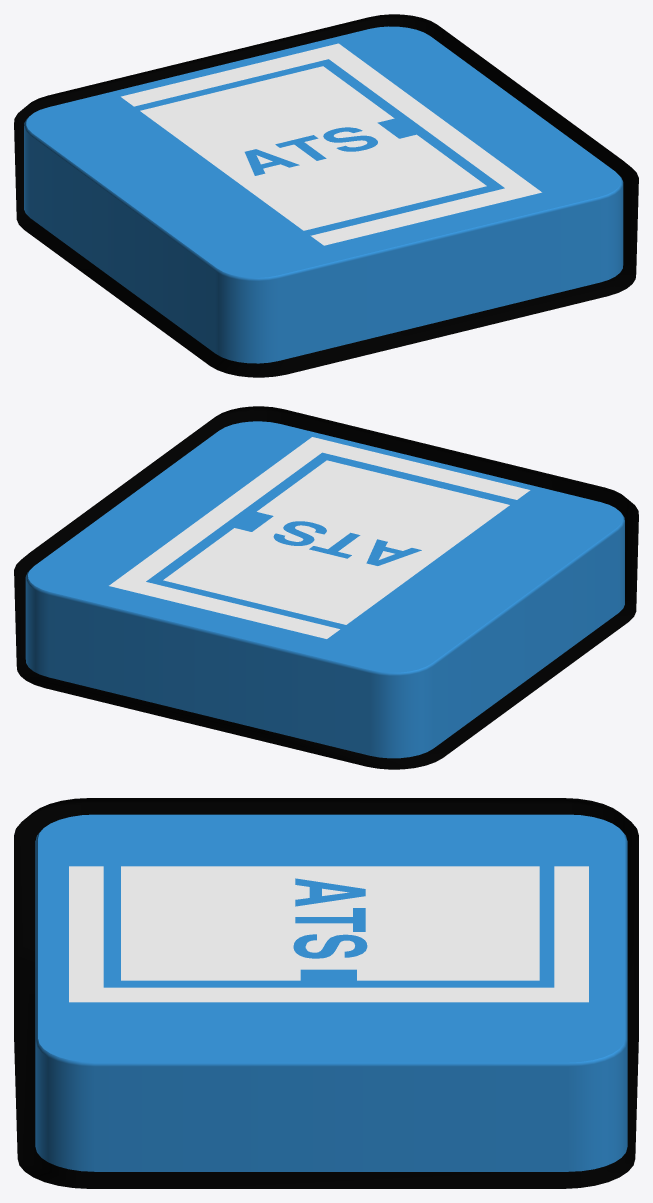
The model's file is ATS.obj.
3 renders of one model, top to bottom at view 1: azimuth 30°, elevation 25°; view 2: azimuth 150°, elevation 25°; view 3: azimuth 270°, elevation 25°, orthographic. The views are drawn at different scales.
Visible parts, largest first — view 1: ATS; view 2: ATS; view 3: ATS.
Boxes of the visible parts, left/top/right/bottom form: ATS: left=14, top=14, right=638, bottom=377; ATS: left=14, top=406, right=638, bottom=769; ATS: left=14, top=798, right=638, bottom=1188.
Size of the model in its own units: 1.06 by 0.2484 by 1.06.
